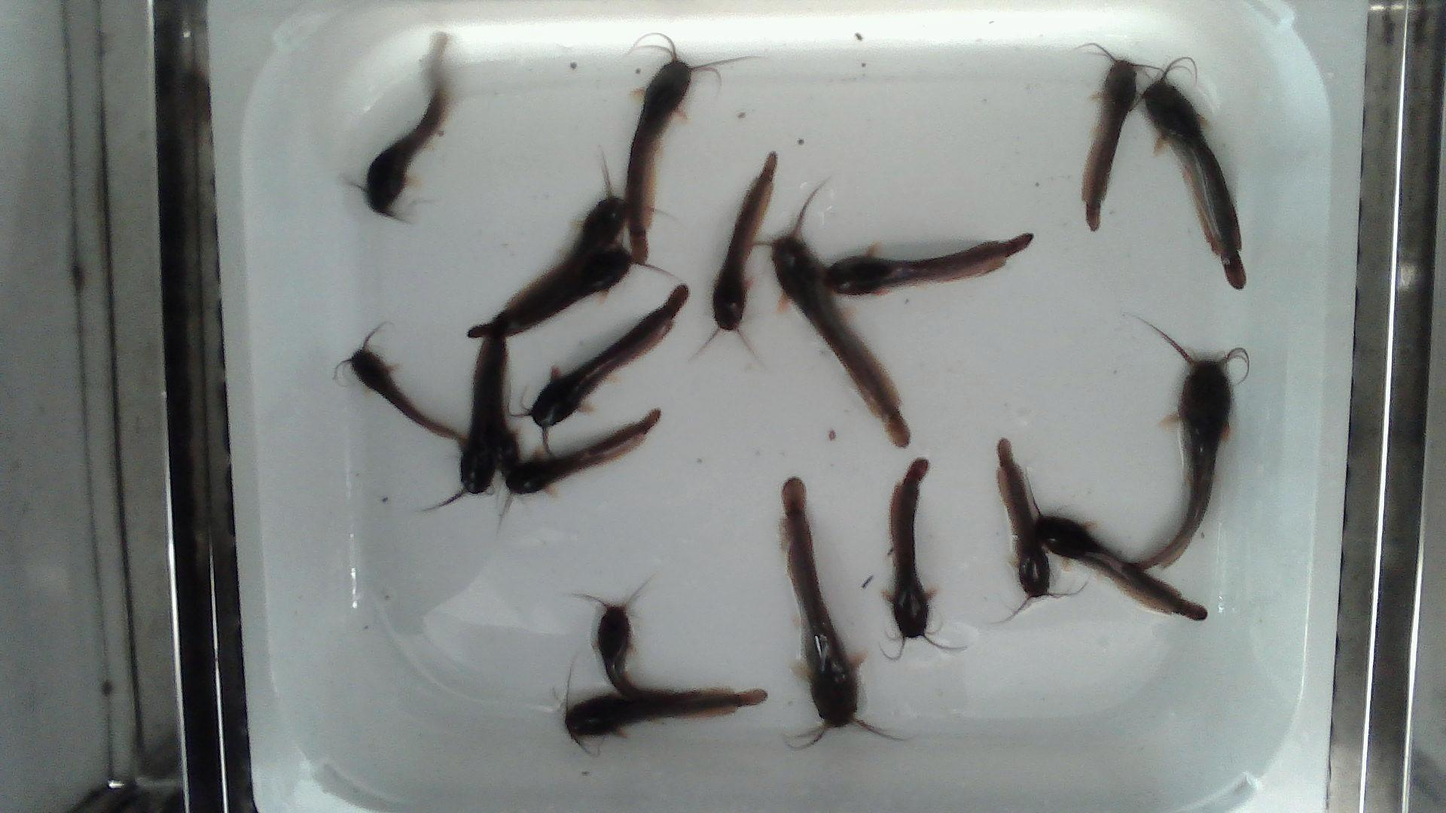lele: (751, 177, 907, 446), (782, 477, 897, 747), (509, 284, 686, 456), (1130, 328, 1252, 570), (626, 32, 743, 266), (493, 147, 625, 322), (1146, 58, 1242, 287), (349, 37, 448, 224), (468, 249, 680, 335), (1037, 515, 1207, 620), (692, 152, 773, 363), (583, 592, 736, 702), (882, 458, 964, 660), (1079, 42, 1166, 231), (998, 435, 1080, 623), (329, 326, 465, 439), (563, 685, 765, 759), (505, 407, 659, 492), (422, 343, 496, 515), (828, 233, 1030, 292), (492, 342, 520, 473)
